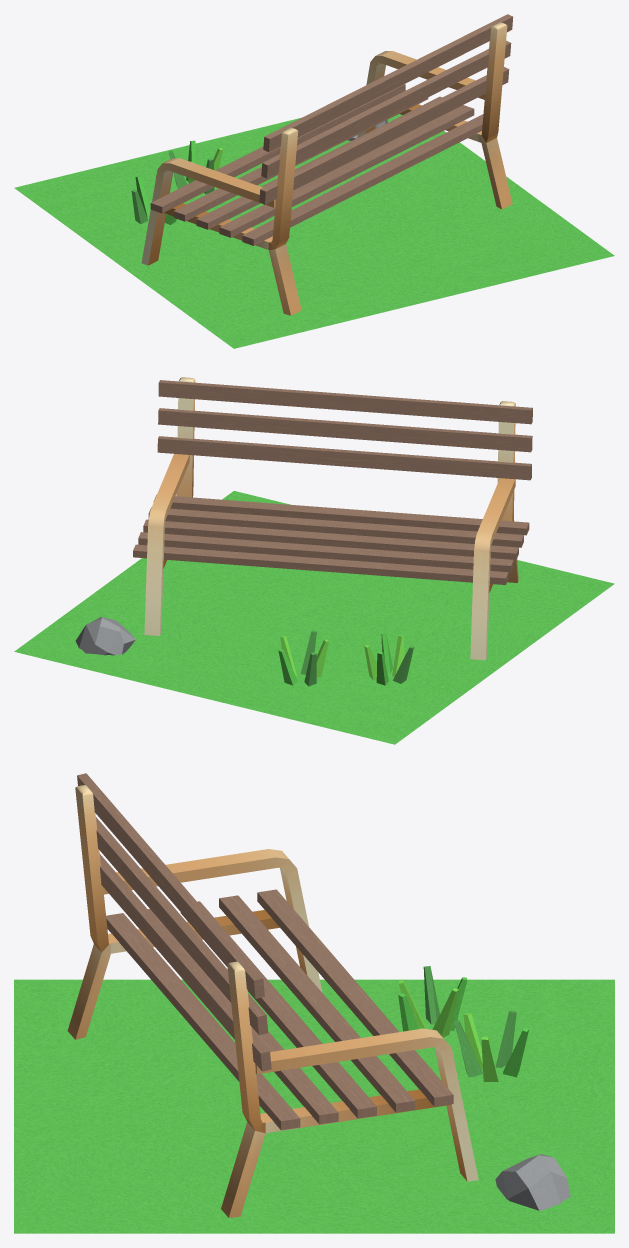
The model's file is park_1.fbx.
3 views of the same model, one above another, from view 1: azimuth 30°, elevation 25°; view 2: azimuth 150°, elevation 25°; view 3: azimuth 270°, elevation 25° (orthographic). The views are drawn at different scales.
Visible parts, largest first — view 1: park_green.010, park_bench.002, grass.020, grass.019; view 2: park_green.010, park_bench.002, stone.011, grass.020, grass.019; view 3: park_green.010, park_bench.002, stone.011, grass.019, grass.020.
Part boxes in pixels (x1,y1,x2,y2): park_green.010: [14, 114, 614, 348]; park_bench.002: [141, 14, 513, 315]; grass.020: [131, 174, 176, 224]; grass.019: [168, 140, 222, 194]; park_green.010: [14, 491, 614, 744]; park_bench.002: [133, 377, 532, 660]; stone.011: [75, 617, 135, 655]; grass.020: [364, 633, 413, 685]; grass.019: [278, 630, 328, 686]; park_green.010: [14, 979, 614, 1233]; park_bench.002: [67, 773, 478, 1217]; stone.011: [495, 1154, 570, 1210]; grass.019: [454, 1010, 528, 1081]; grass.020: [398, 966, 467, 1037].
Size of the model in its own units: 2 by 1.01 by 2.
2 materials, 2 textured.
